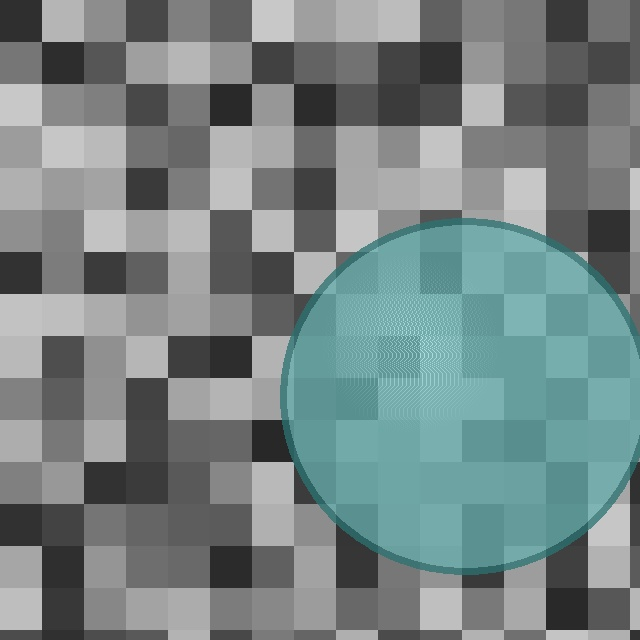lens: (283, 221, 640, 571)
